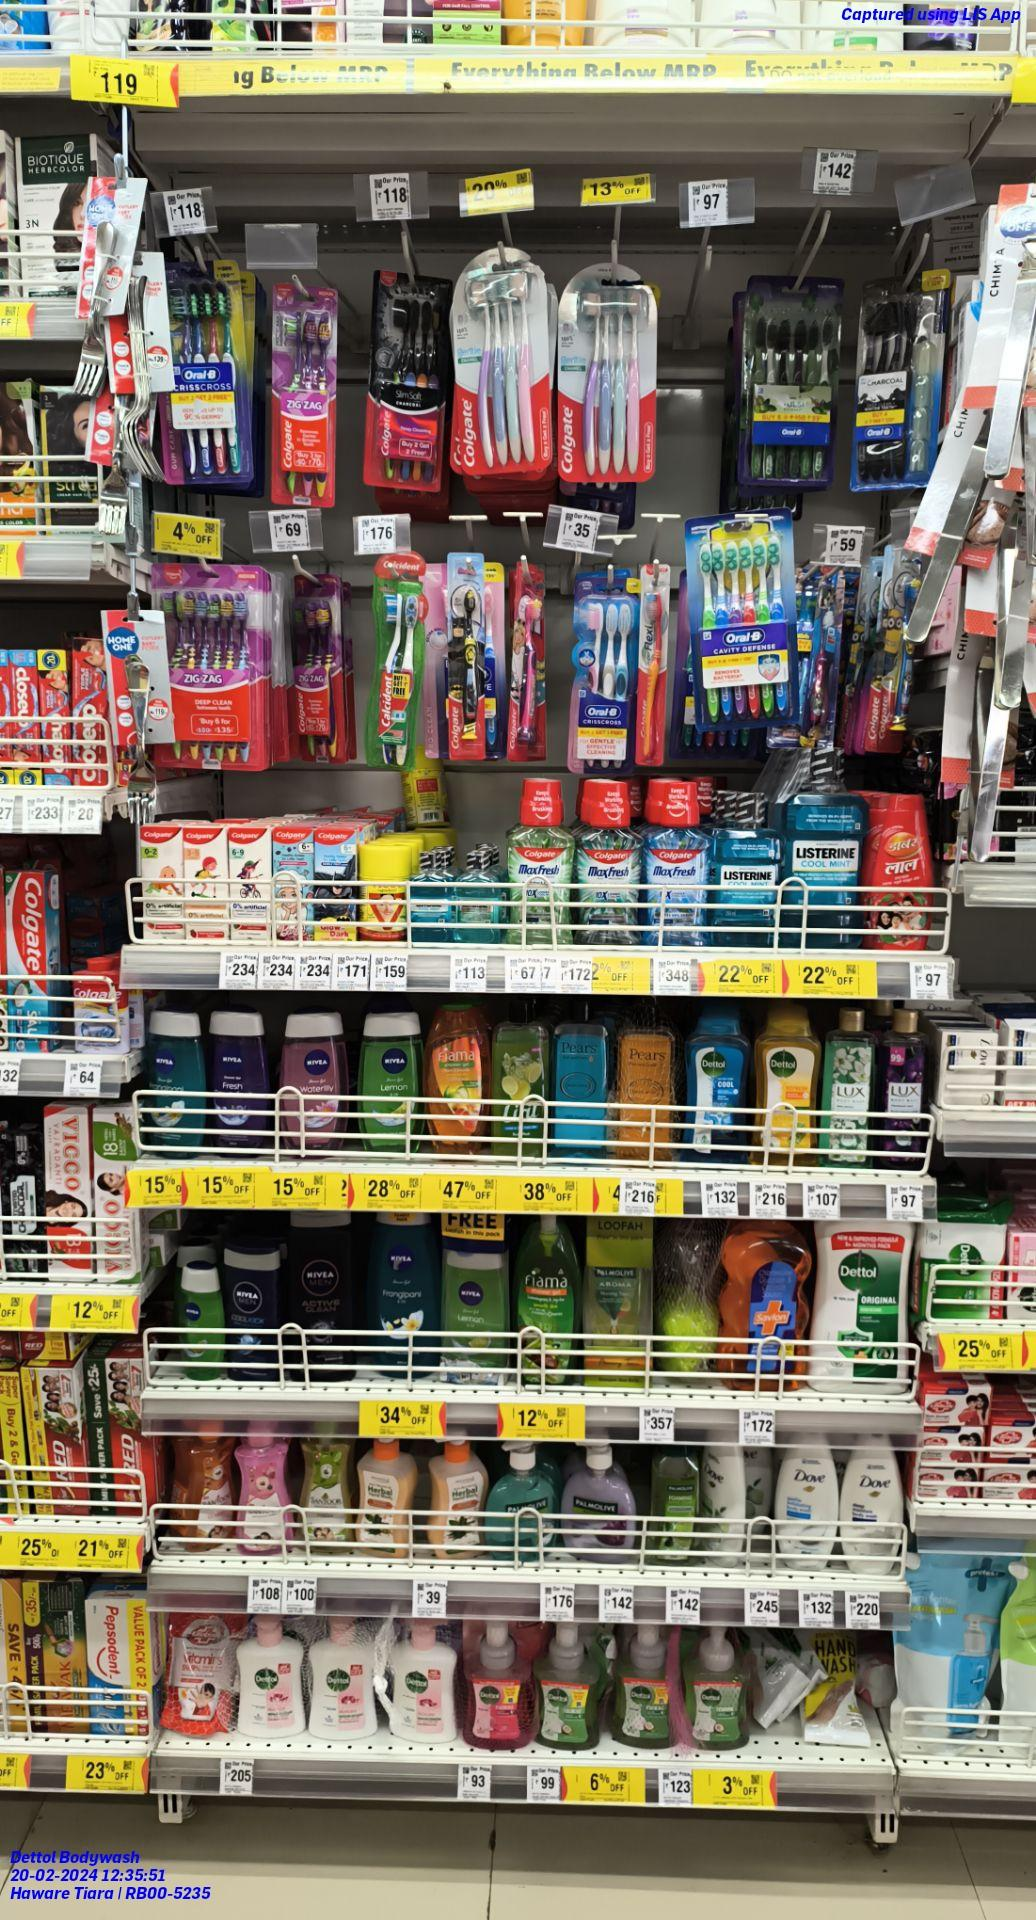Dettol_Bodywash_Cool: (683, 1014, 750, 1162)
Dettol_Bodywash_Refresh: (755, 1008, 823, 1166)
Dove_Deep_Moisture_Body_Wash_250ML: (842, 1442, 905, 1570)
Dove_Gentle_Exfoliating_Body_Wash_250ML: (774, 1448, 840, 1568)
Fiama_Shower_Gel_Peach_and_Avocado_250ML: (427, 999, 490, 1155)
Liril_Lime_and_Tea_Tree_Oil_Body_Wash_250ML: (494, 1003, 550, 1155)
Lux_Black_Orchid_Scent_and_Juniper_Oil_Body_Wash_245ML: (874, 1012, 928, 1167)
Lux_Body_Wash_Skin_Detox_Freesia_Scent_and_Alove_Vera_245ML: (827, 1007, 871, 1165)
Nivea_Shower_Gel_Frangipani_and_Oil_250ML: (373, 1207, 439, 1378), (149, 1012, 208, 1160)
Nivea_Shower_Gel_Fresh_Powerfruit_250ML: (213, 1008, 269, 1153)
Nivea_Shower_Gel_Lemon_and_Oil_250ML: (359, 1010, 424, 1157)
Nivea_Shower_Gel_Waterlily_and_Oil_250ML: (279, 1012, 350, 1148)
Pears_Pure_Glycerin_and_Mint_Extracts_Body_Wash_250ML: (554, 1001, 609, 1157)
